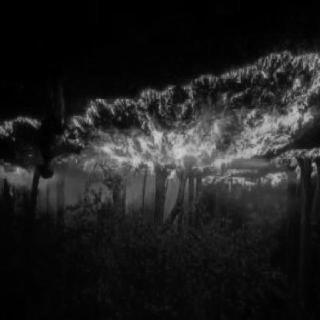Fire: (7, 49, 316, 216)
